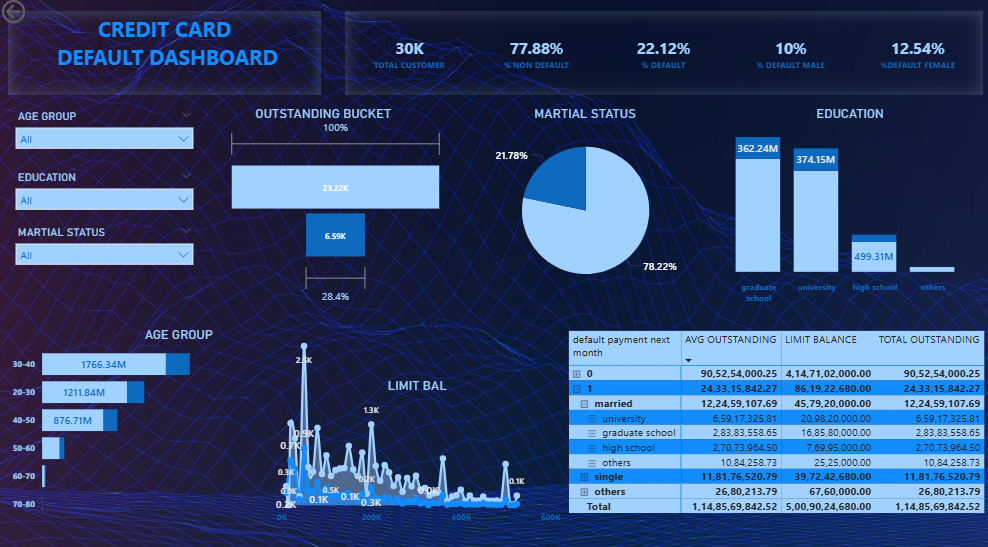

Layout of this report page (visuals, bound fields, positions):
{"tool":"powerbi","page":{"name":"Page 1","canvas":[1280,720],"ordinal":0},"visuals":[{"type":"textbox","box":[12.8,19.8,403.9,109.1],"z":0},{"type":"actionButton","box":[0,0,100,40],"z":1000},{"type":"lineChart","fields":{"Category":["credit_db food.LIMIT_BAL"],"Y":["credit_db food.non_default","credit_db food.default"]},"box":[351.5,433.7,379.8,256.5],"z":2000},{"type":"columnChart","title":"DEFAULT \"X\" NON DEFAULT BY EDUCATION","fields":{"Category":["credit_db food.education level"],"Series":["credit_db food.default payment next month"],"Y":["Sum(credit_db food.LIMIT_BAL)"]},"box":[905.7,148.8,365.7,256.5],"z":3000},{"type":"cardVisual","fields":{"Data":["credit_db food.total customer","credit_db food.% nondefault","credit_db food.% default","credit_db food.% default_male","credit_db food.% default_female"]},"box":[447.9,19.8,823.5,109.1],"z":4000},{"type":"barChart","title":"LIMIT BAL \"X\" AGE","fields":{"Y":["Sum(credit_db food.LIMIT_BAL)"],"Category":["credit_db food.Age_Bracket"],"Series":["credit_db food.default payment next month"]},"box":[12.8,433.7,320.3,256.5],"z":5000},{"type":"pieChart","title":"LIMIT_BAL & MARRIAGE DEFALT NONDEFAULT","fields":{"Category":["credit_db food.default payment next month"],"Y":["Sum(credit_db food.MARRIAGE)"]},"box":[619.4,148.8,277.8,256.5],"z":6000},{"type":"pivotTable","fields":{"Values":["Sum(credit_db food.Average_Outstanding_Amount)","Sum(credit_db food.LIMIT_BAL)","Sum(credit_db food.Total Outstanding)"],"Rows":["credit_db food.default payment next month","credit_db food.martial status","credit_db food.education level","credit_db food.Age_Bracket"]},"box":[731.3,426.6,548.5,272.1],"z":7000},{"type":"funnel","title":"LIMIT BAL OUTSTANDING BUCKET","fields":{"Y":["CountNonNull(credit_db food.outstanding_bucket)"],"Category":["credit_db food.default payment next month"]},"box":[292,148.8,287.7,256.5],"z":8000},{"type":"shape","title":"LIMIT BAL","box":[477.6,493.2,127.6,26.9],"z":9000},{"type":"shape","title":"MARTIAL STATUS","box":[677.5,141.7,160.2,25.5],"z":10000},{"type":"shape","title":"AGE GROUP","box":[83.6,426.6,299.1,21.3],"z":11000},{"type":"shape","title":"OUTSTANDING BUCKET","box":[297.6,141.7,243.8,21.3],"z":12000},{"type":"shape","title":"EDUCATION","box":[1044.6,141.7,109.1,25.5],"z":13000},{"type":"slicer","fields":{"Values":["credit_db food.Age_Bracket"]},"box":[12.8,141.7,249.4,66.6],"z":14000},{"type":"slicer","fields":{"Values":["credit_db food.education level"]},"box":[12.8,221.1,249.4,68],"z":15000},{"type":"slicer","fields":{"Values":["credit_db food.martial status"]},"box":[12.8,292,249.4,68],"z":16000}]}

Visuals, with their boxes in screenshot pixels (x1, y1, x2, y2), scaled from the page's 1280x720 canvas onto the 988x547 screenshot:
textbox: <bbox>10, 15, 322, 98</bbox>
actionButton: <bbox>0, 0, 77, 30</bbox>
lineChart - credit_db food.LIMIT_BAL x credit_db food.non_default: <bbox>271, 329, 564, 524</bbox>
"DEFAULT "X" NON DEFAULT BY EDUCATION" columnChart: <bbox>699, 113, 981, 308</bbox>
cardVisual - credit_db food.total customer x credit_db food.% nondefault: <bbox>346, 15, 981, 98</bbox>
"LIMIT BAL "X" AGE" barChart: <bbox>10, 329, 257, 524</bbox>
"LIMIT_BAL & MARRIAGE DEFALT NONDEFAULT" pieChart: <bbox>478, 113, 693, 308</bbox>
pivotTable - Sum(credit_db food.Average_Outstanding_Amount) x Sum(credit_db food.LIMIT_BAL): <bbox>564, 324, 987, 531</bbox>
"LIMIT BAL OUTSTANDING BUCKET" funnel: <bbox>225, 113, 447, 308</bbox>
"LIMIT BAL" shape: <bbox>369, 375, 467, 395</bbox>
"MARTIAL STATUS" shape: <bbox>523, 108, 647, 127</bbox>
"AGE GROUP" shape: <bbox>65, 324, 295, 340</bbox>
"OUTSTANDING BUCKET" shape: <bbox>230, 108, 418, 124</bbox>
"EDUCATION" shape: <bbox>806, 108, 891, 127</bbox>
slicer - credit_db food.Age_Bracket: <bbox>10, 108, 202, 158</bbox>
slicer - credit_db food.education level: <bbox>10, 168, 202, 220</bbox>
slicer - credit_db food.martial status: <bbox>10, 222, 202, 274</bbox>
